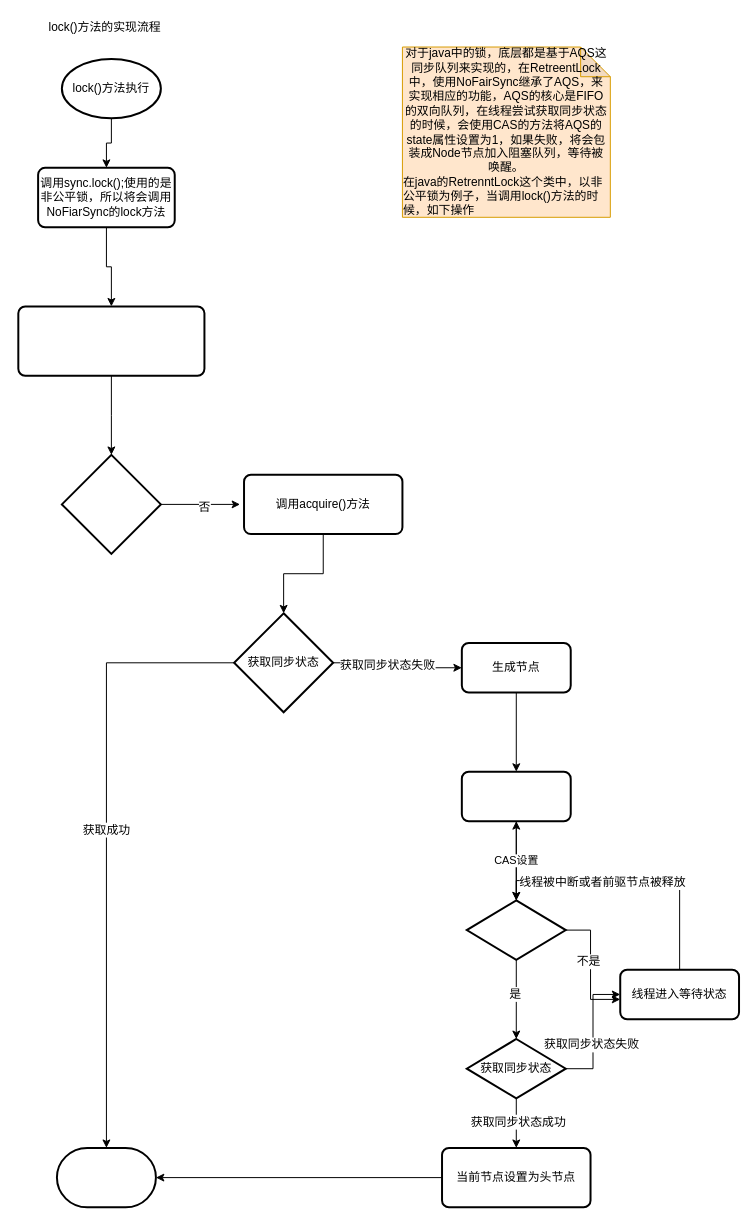
Some shapes in this 756 by 1225 pixel diagram are drawn without their labels. Here are the shapes that lost their labels. From the top down, the box of each, then its label:
(17, 305, 205, 376): 上来先调用 compareAndSetState ( 0 , 1 )，如果AQS的state为0也就是说资源是空闲的，就直接设置为当前线程
(60, 453, 161, 554): 设置成功
(460, 770, 571, 822): 加入同步队列尾部
(465, 899, 566, 960): 前驱为头节点
(55, 1146, 156, 1208): 退出返回
